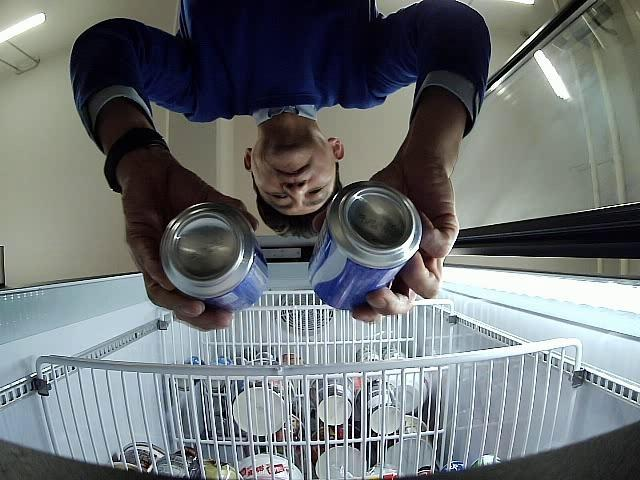13_pocariSweat: (308, 181, 422, 311), (160, 202, 268, 312)
